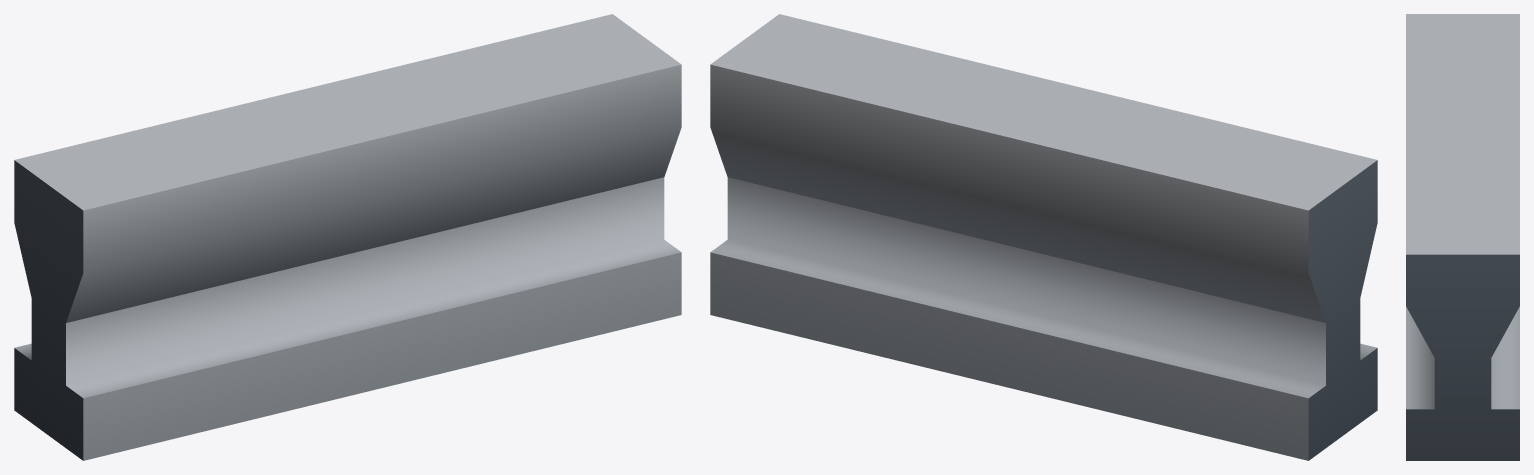
File: balcony-rail-center.glb
3 renders of one model, left to right at view 1: azimuth 30°, elevation 25°; view 2: azimuth 150°, elevation 25°; view 3: azimuth 270°, elevation 25°, orthographic. The views are drawn at different scales.
Visible parts, largest first — view 1: balcony-rail-center; view 2: balcony-rail-center; view 3: balcony-rail-center.
Boxes of the visible parts, x1,y1,x2,y2 form: balcony-rail-center: (14,14,681,460); balcony-rail-center: (710,14,1377,460); balcony-rail-center: (1406,14,1519,460).
Size of the model in its own units: 1 by 0.3999 by 0.2.
